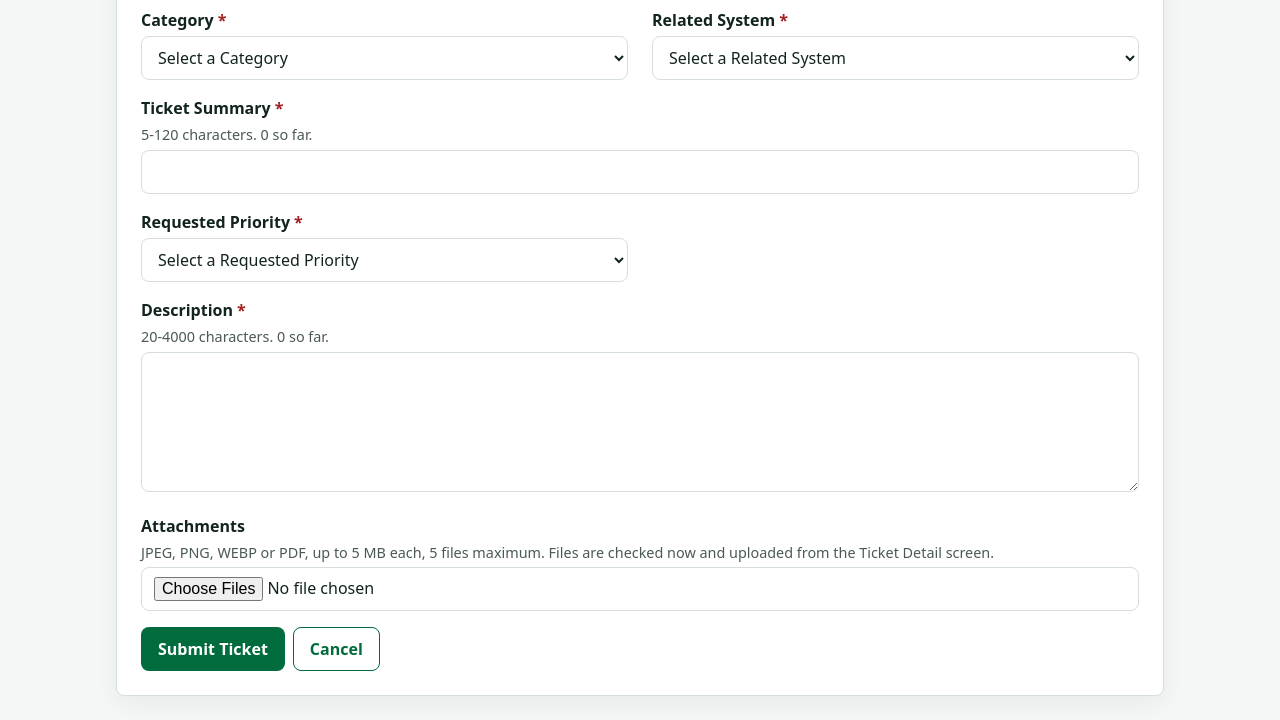
Scenario: Create Ticket — validation › reports every broken field beneath its own control and sends no request
(page scrolled)
Expected: the dropdown labelled "Category*" is enabled, [141, 36, 628, 80]
Click the button "Submit Ticket": (213,649) [141, 627, 285, 671]
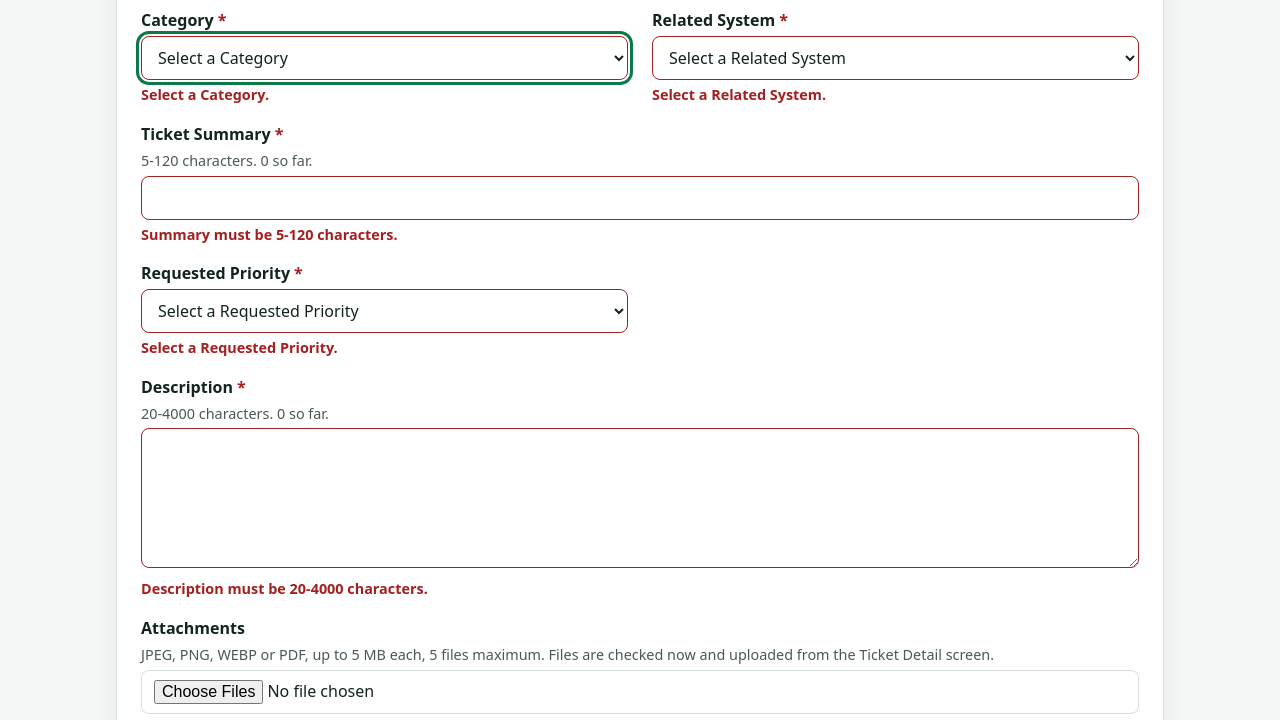
Now the text "Select a Category." is shown, box [141, 85, 269, 104]
Now the text "Select a Related System." is shown, box [652, 85, 826, 104]
Now the text "Summary must be 5-120 characters." is shown, box [141, 225, 398, 244]
